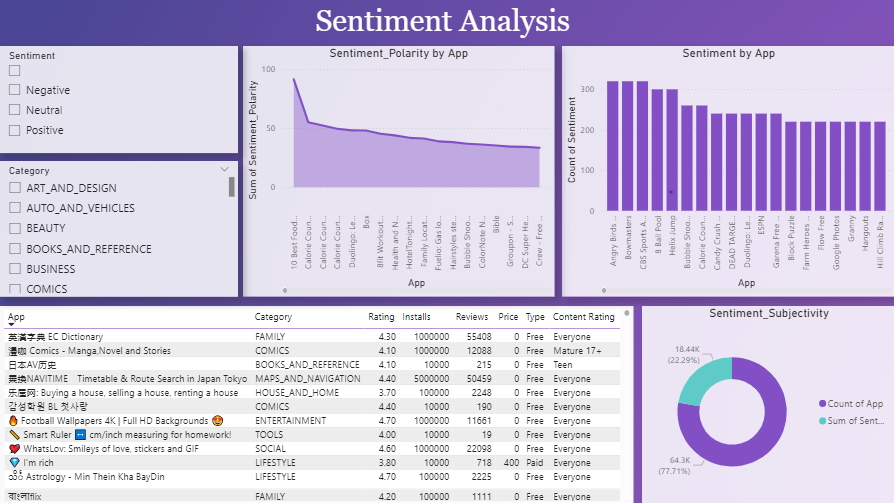

Layout of this report page (visuals, bound fields, positions):
{"tool":"powerbi","page":{"name":"Sentiment","canvas":[1280,720],"ordinal":1},"visuals":[{"type":"tableEx","fields":{"Values":["cleaned_apps.App","cleaned_apps.Category","cleaned_apps.Rating","cleaned_apps.Installs","cleaned_apps.Reviews","cleaned_apps.Price","cleaned_apps.Type","cleaned_apps.Content Rating"]},"box":[0,436.7,905,283.3],"z":0},{"type":"lineStackedColumnComboChart","title":"Sentiment by App","fields":{"Category":["cleaned_reviews.App"],"Y":["CountNonNull(cleaned_reviews.Sentiment)"]},"box":[803.3,65,476.7,358.3],"z":1000},{"type":"stackedAreaChart","title":"Sentiment_Polarity by App","fields":{"Category":["cleaned_reviews.App"],"Y":["Sum(cleaned_reviews.Sentiment_Polarity)"]},"box":[346.7,65,445,358.3],"z":2000},{"type":"slicer","fields":{"Values":["cleaned_reviews.Sentiment"]},"box":[0,65.7,340,152.9],"z":3000},{"type":"textbox","box":[445,0,390,66.7],"z":4000},{"type":"donutChart","title":"Sentiment_Subjectivity","fields":{"Y":["CountNonNull(cleaned_reviews.App)","Sum(cleaned_reviews.Sentiment_Subjectivity)"]},"box":[916.7,436.7,363.3,283.3],"z":5000},{"type":"slicer","fields":{"Values":["cleaned_apps.Category"]},"box":[0,230,340,194.3],"z":5001}]}

Visuals, with their boxes in screenshot pixels (x1, y1, x2, y2), scaled from the page's 1280x720 canvas onto the 894x503 screenshot:
tableEx - cleaned_apps.App x cleaned_apps.Category: Rect(0, 305, 632, 502)
"Sentiment by App" lineStackedColumnComboChart: Rect(561, 45, 893, 296)
"Sentiment_Polarity by App" stackedAreaChart: Rect(242, 45, 553, 296)
slicer - cleaned_reviews.Sentiment: Rect(0, 46, 237, 153)
textbox: Rect(311, 0, 583, 47)
"Sentiment_Subjectivity" donutChart: Rect(640, 305, 893, 502)
slicer - cleaned_apps.Category: Rect(0, 161, 237, 296)
